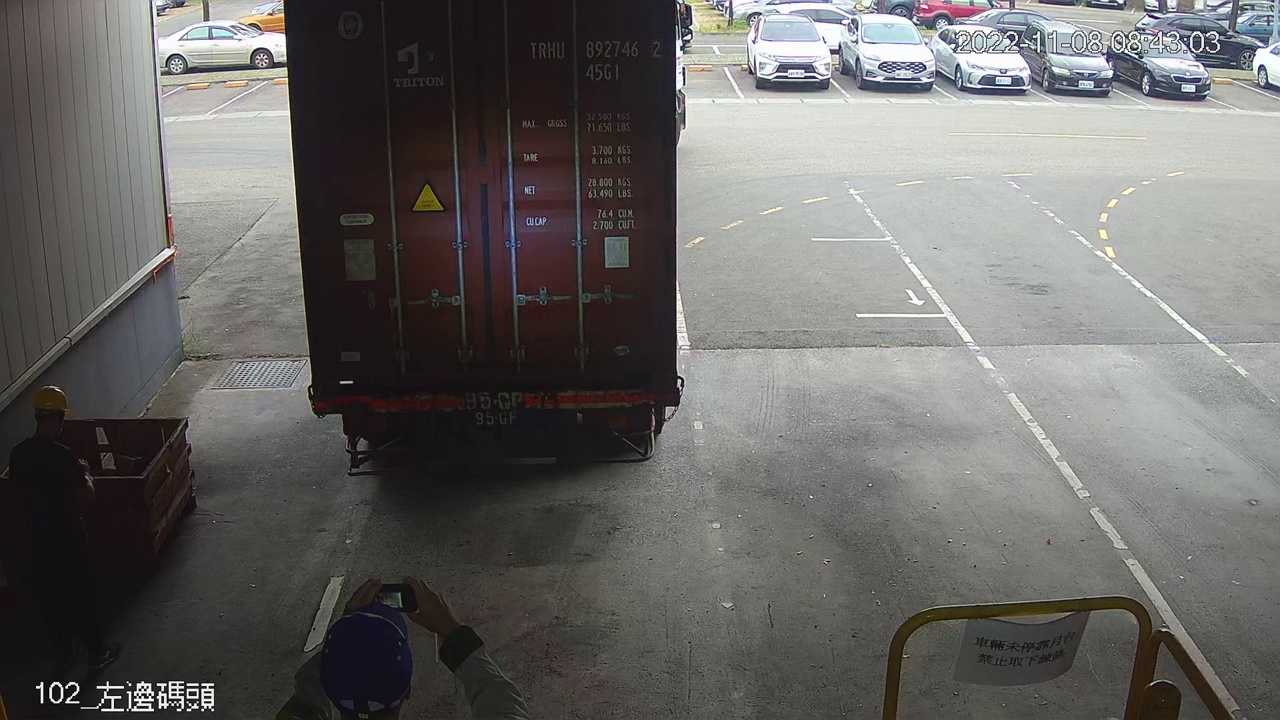container: (523, 31, 667, 86)
